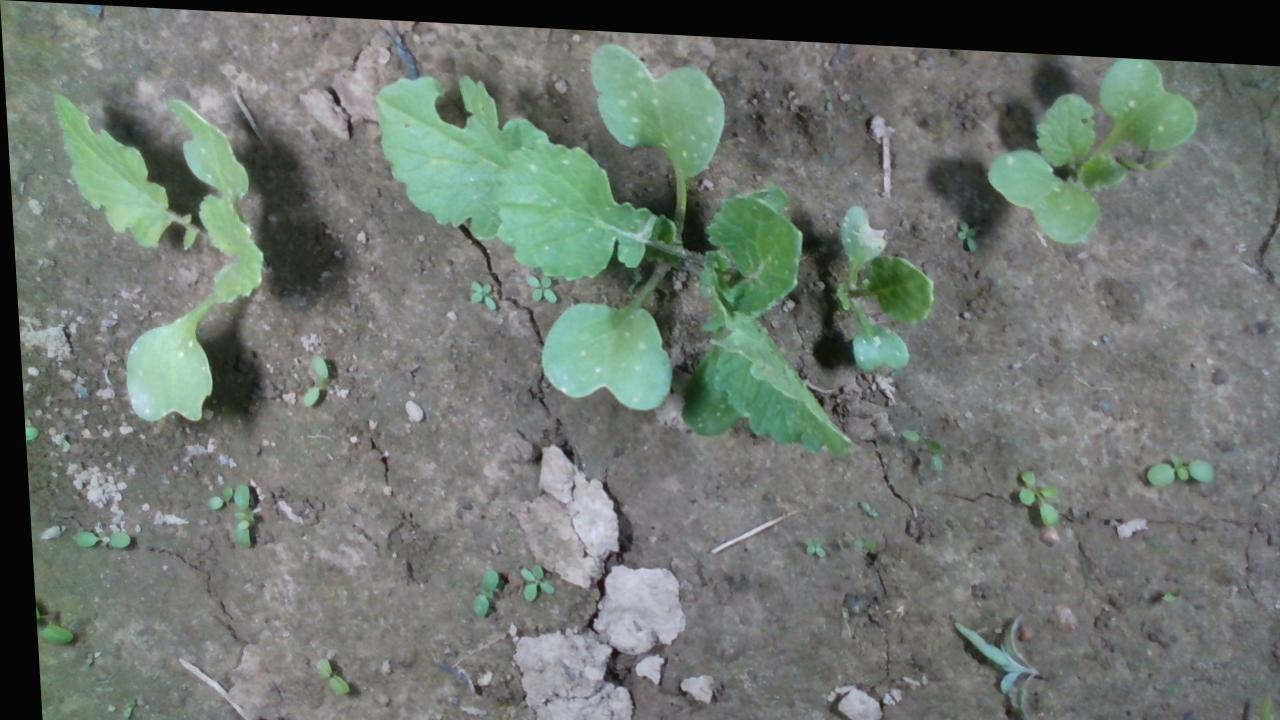weed: (1009, 454, 1058, 515), (1137, 438, 1211, 477), (292, 348, 325, 406), (460, 561, 494, 613), (510, 556, 548, 596), (64, 526, 124, 550), (307, 652, 341, 691), (463, 271, 492, 307), (952, 206, 978, 243), (197, 481, 227, 508), (795, 524, 820, 551), (852, 487, 874, 509)
